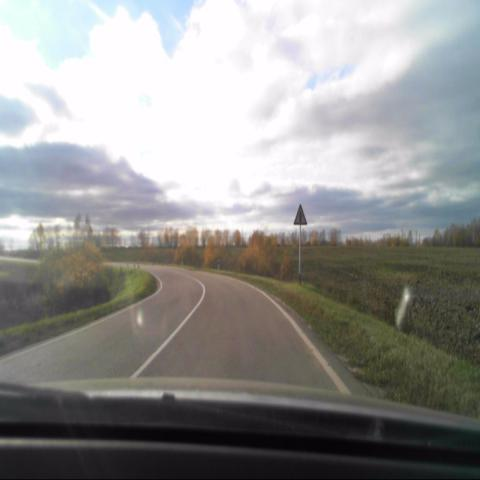2_3_2: (294, 201, 308, 227)
